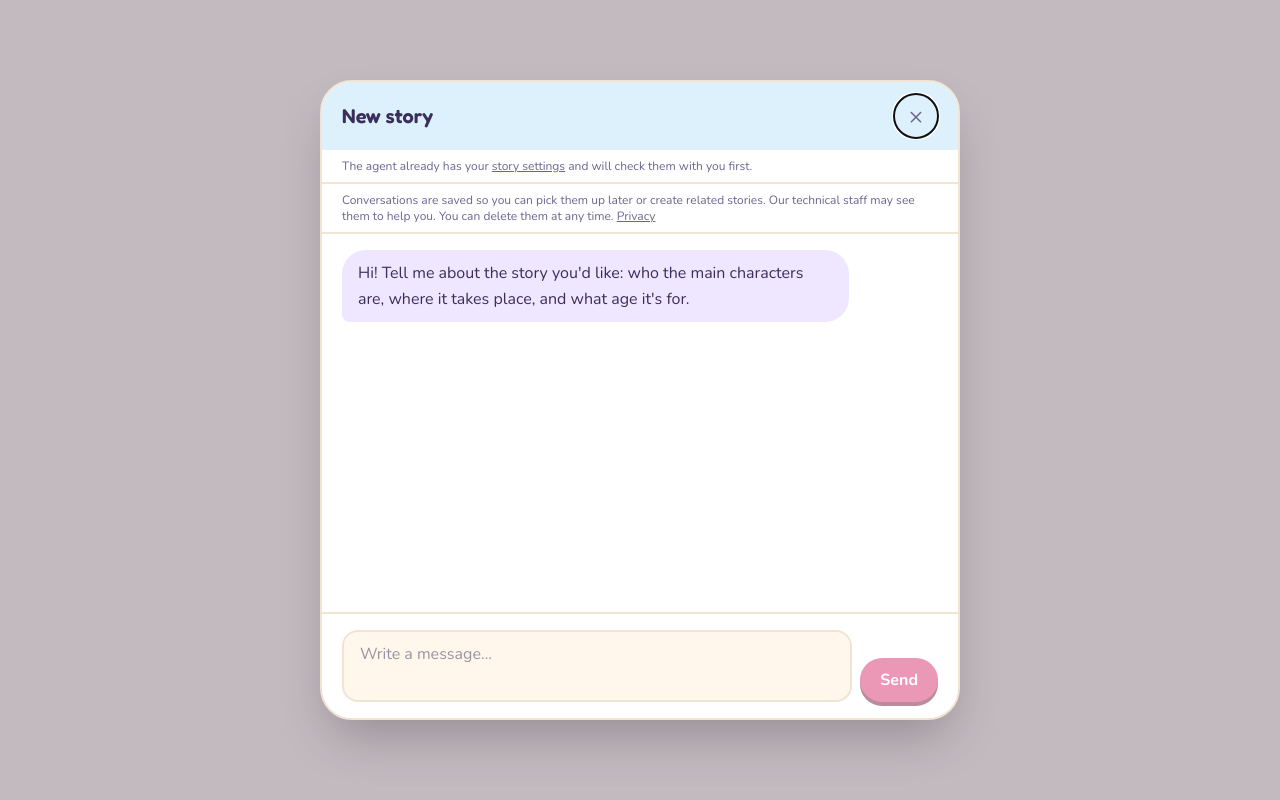
Test: when something goes wrong › gives the typed message back so it is not lost
This screenshot has width=1280, height=800.
Step 1. Type "a kind dragon" into the text box → (597, 666), box [342,630,852,702]
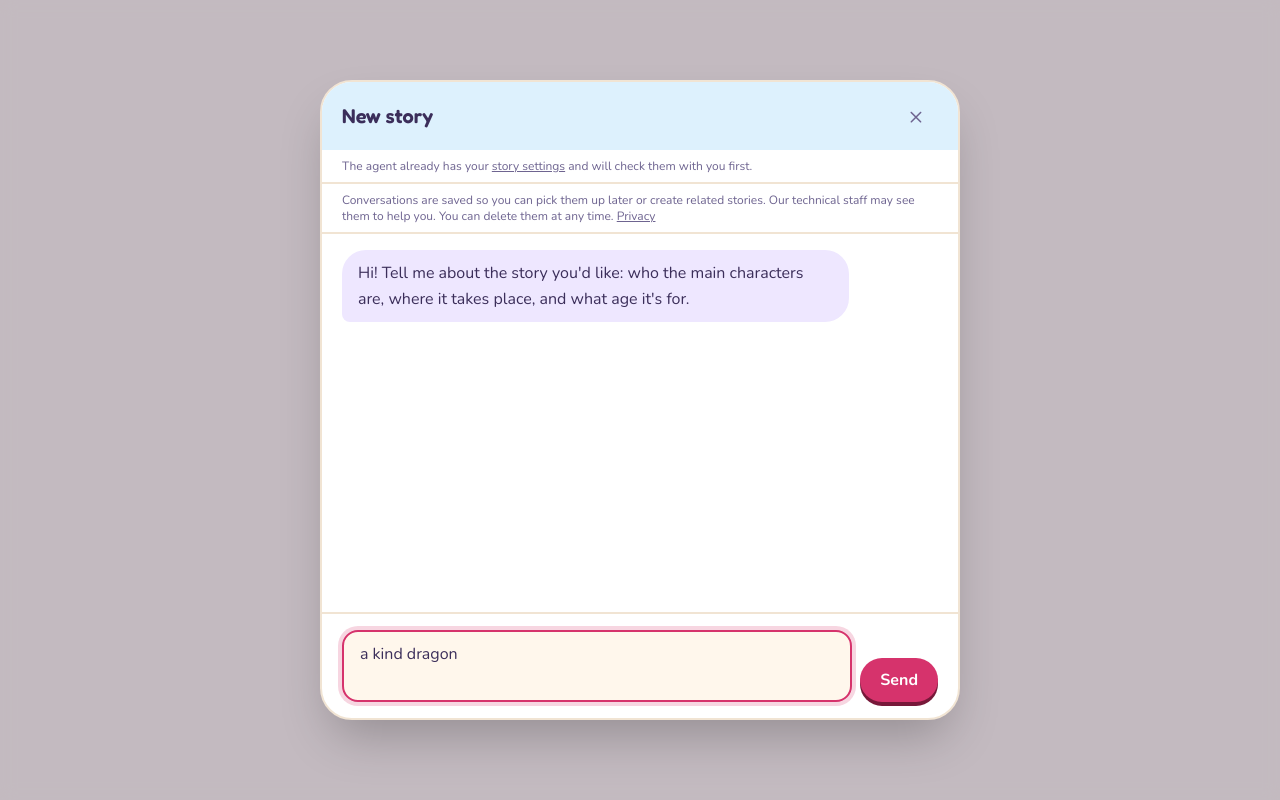
Step 2. Press Enter
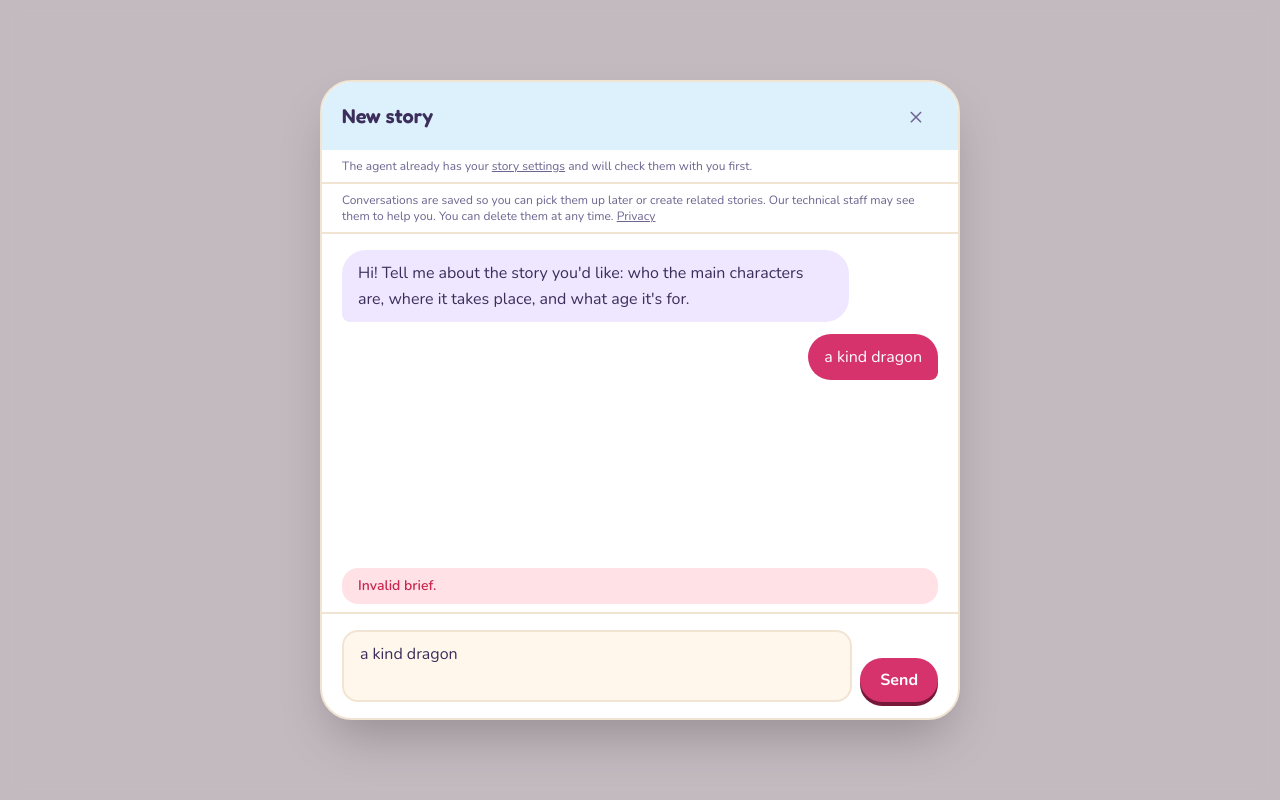
Now the message reads "Invalid brief.", box [358,576,436,595]
